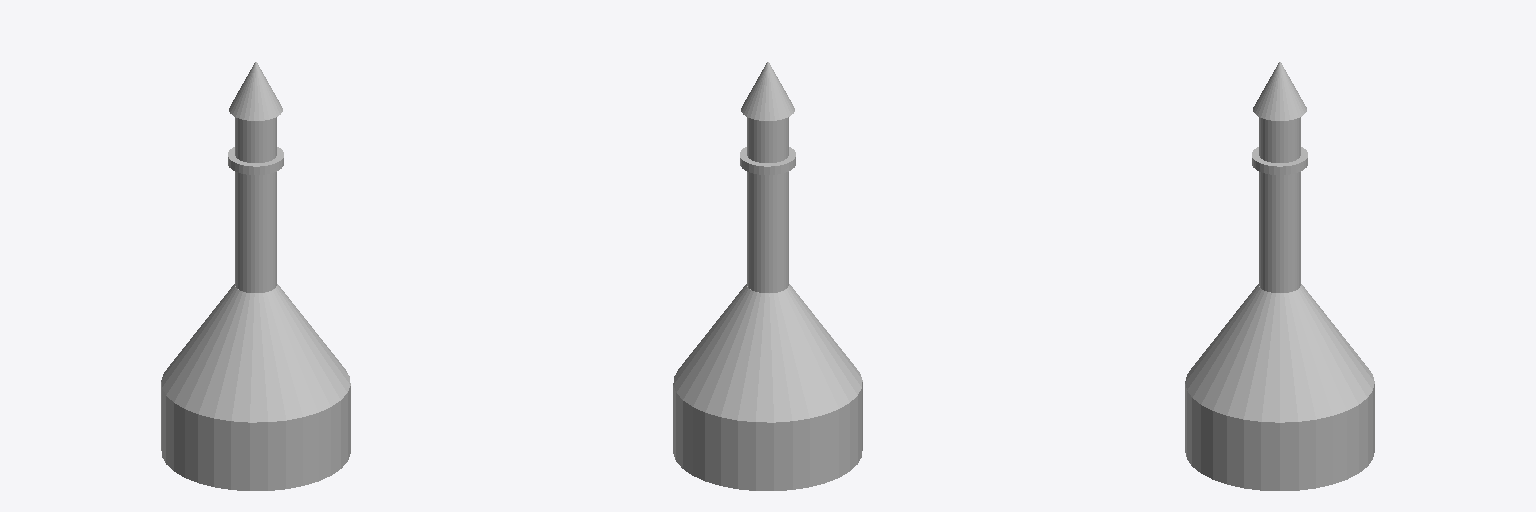
The model's file is Żółta boja.obj.
The picture shows the model from 3 angles: view 1: azimuth 30°, elevation 25°; view 2: azimuth 150°, elevation 25°; view 3: azimuth 270°, elevation 25°; orthographic projection.
Visible parts, largest first — view 1: Cylinder.001, Cylinder, Cylinder.002, Cone, Cylinder.004, Cylinder.003; view 2: Cylinder.001, Cylinder, Cylinder.002, Cone, Cylinder.004, Cylinder.003; view 3: Cylinder.001, Cylinder, Cylinder.002, Cone, Cylinder.004, Cylinder.003.
Boxes of the visible parts, x1=… form: Cylinder.001: x1=161, y1=284, x2=350, y2=422; Cylinder: x1=161, y1=382, x2=350, y2=490; Cylinder.002: x1=235, y1=172, x2=276, y2=292; Cone: x1=229, y1=62, x2=282, y2=120; Cylinder.004: x1=235, y1=117, x2=276, y2=162; Cylinder.003: x1=228, y1=147, x2=283, y2=174; Cylinder.001: x1=673, y1=284, x2=862, y2=422; Cylinder: x1=673, y1=382, x2=862, y2=490; Cylinder.002: x1=747, y1=172, x2=788, y2=292; Cone: x1=741, y1=62, x2=794, y2=120; Cylinder.004: x1=747, y1=117, x2=788, y2=162; Cylinder.003: x1=740, y1=147, x2=795, y2=174; Cylinder.001: x1=1185, y1=284, x2=1374, y2=422; Cylinder: x1=1185, y1=384, x2=1374, y2=490; Cylinder.002: x1=1259, y1=172, x2=1300, y2=292; Cone: x1=1253, y1=62, x2=1306, y2=120; Cylinder.004: x1=1259, y1=117, x2=1300, y2=162; Cylinder.003: x1=1252, y1=147, x2=1307, y2=174.
Bounding box in the file's own units: 2 × 4.55 × 2.